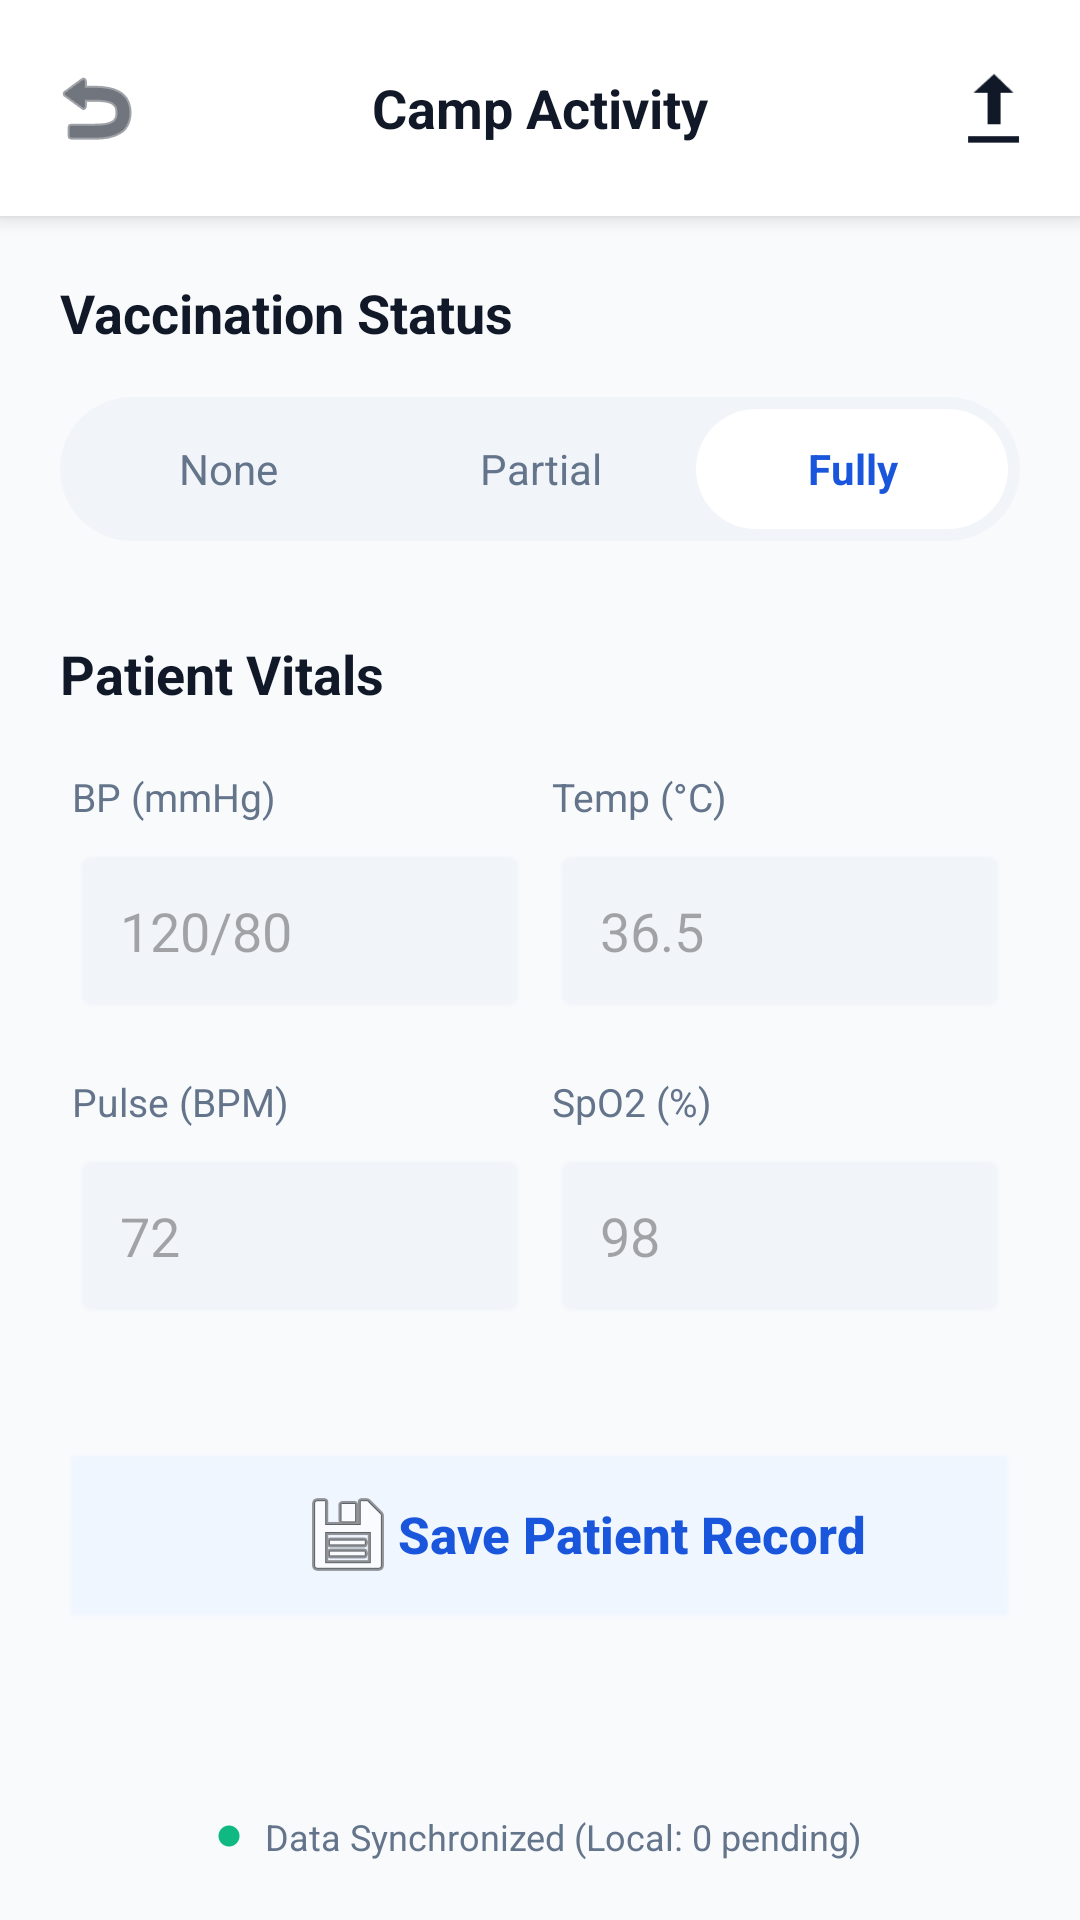

Named icons in this screenshot (1080px×1920px) and their centers, [x,y]:
revert: [97,108]
upload: [993,108]
